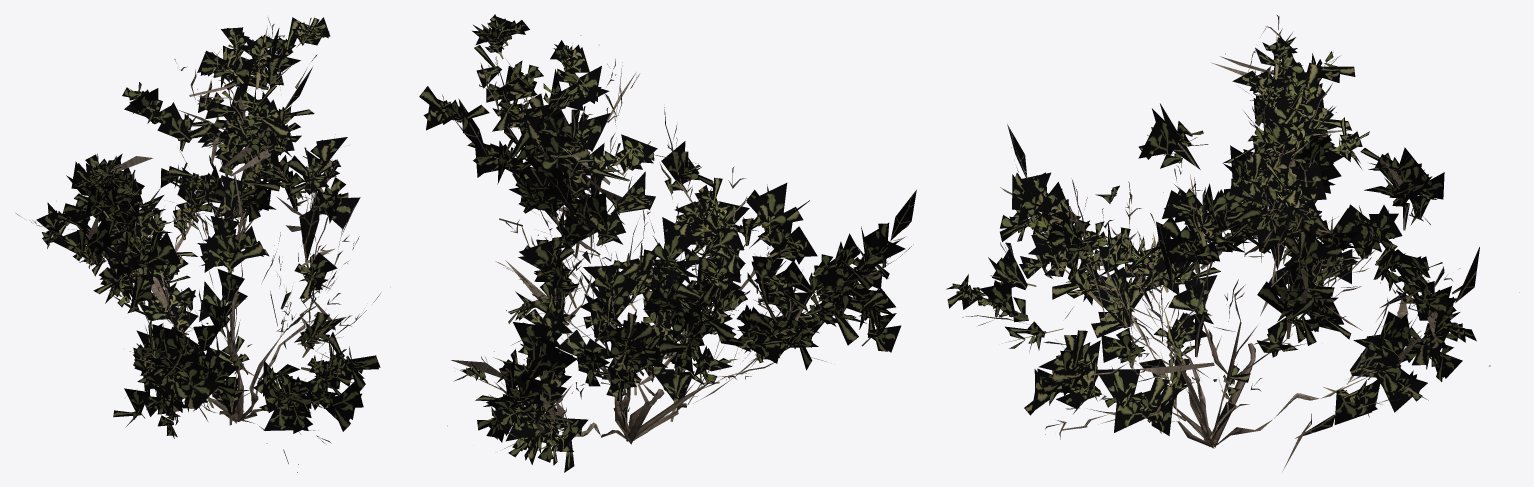
File: chapbig_small.glb
3 views of the same model, side by side, from view 1: azimuth 30°, elevation 25°; view 2: azimuth 150°, elevation 25°; view 3: azimuth 270°, elevation 25° (orthographic). The views are drawn at different scales.
Visible parts, largest first — view 1: Cube.016; view 2: Cube.016; view 3: Cube.016.
Part boxes in pixels (bbox=[...]): Cube.016: bbox=[15, 17, 380, 472]; Cube.016: bbox=[419, 14, 916, 472]; Cube.016: bbox=[946, 14, 1519, 471].
Size of the model in its own units: 1.65 by 1.91 by 2.29.
3 materials, 3 textured.
